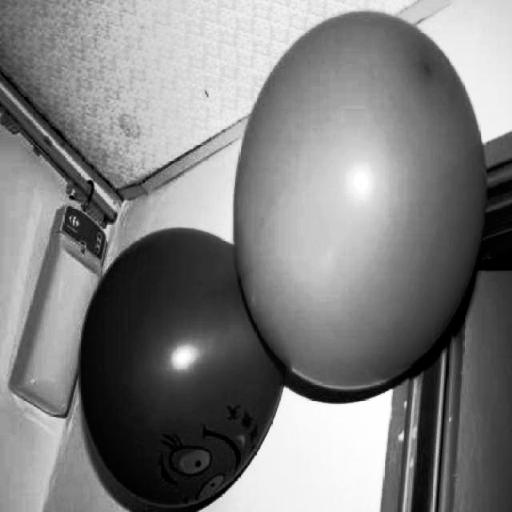balloon: (216, 3, 486, 392), (64, 228, 304, 512)
